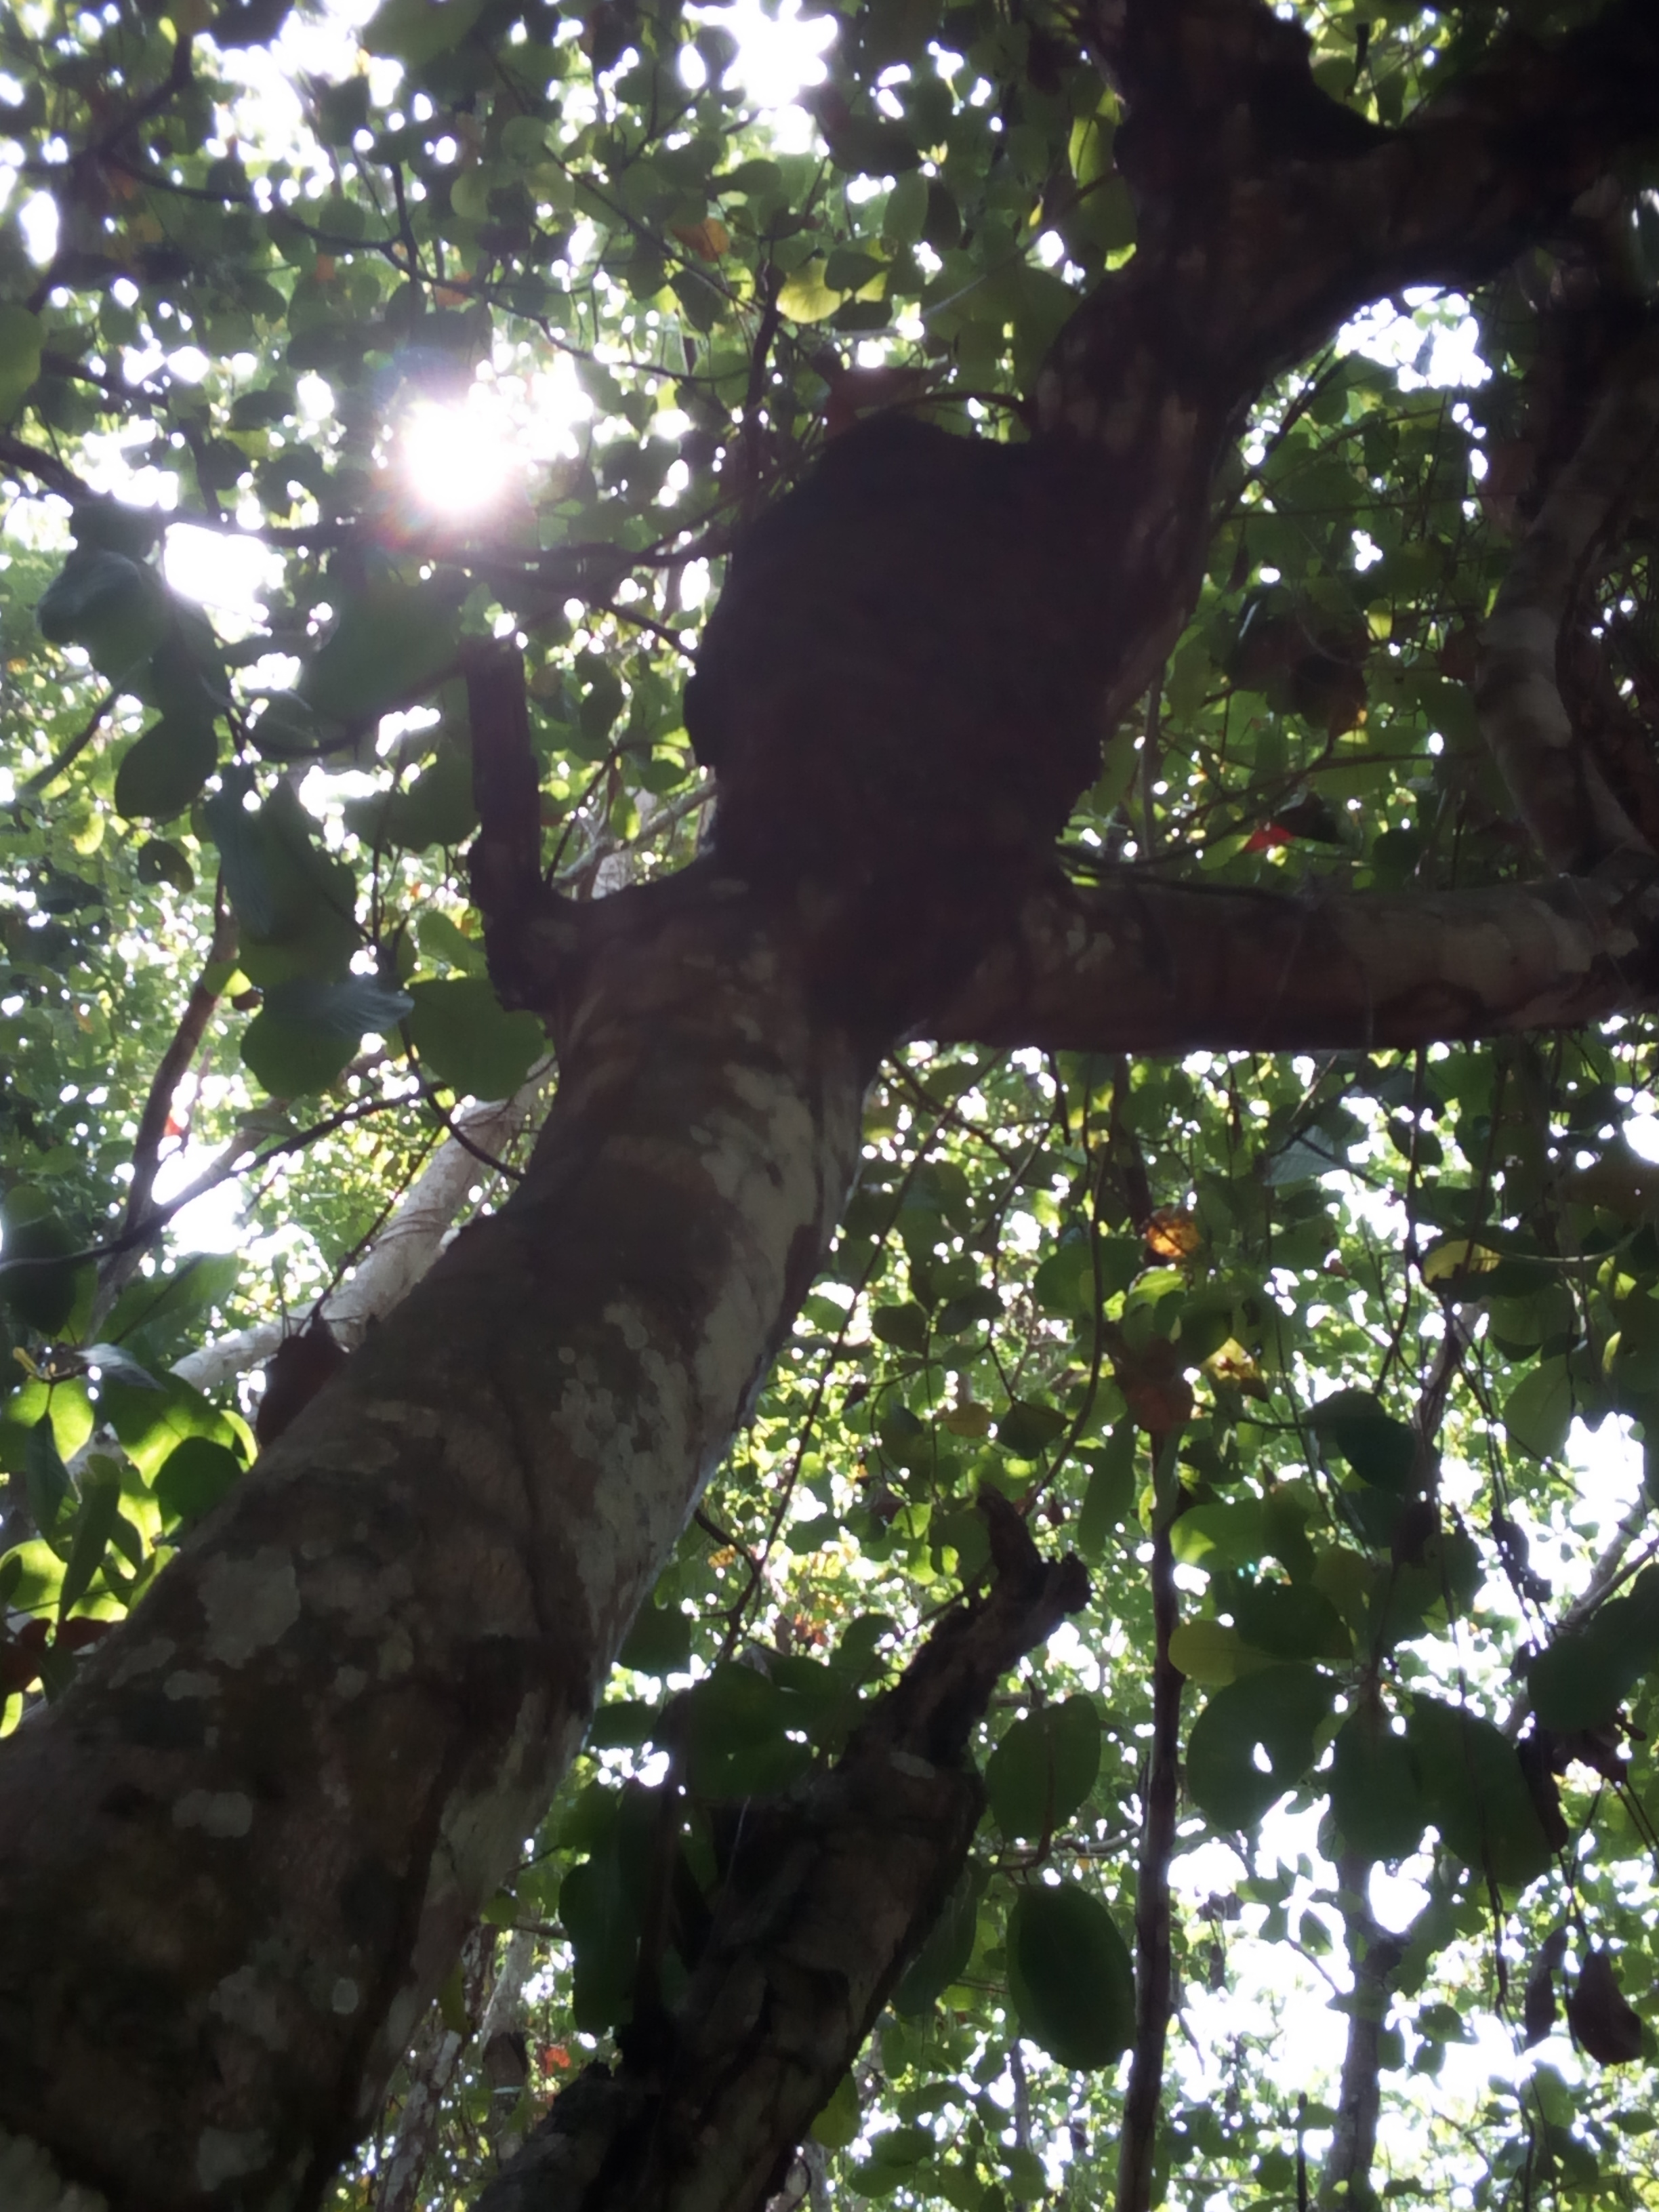Termites: (683, 425, 1131, 991), (263, 1554, 488, 2200)
